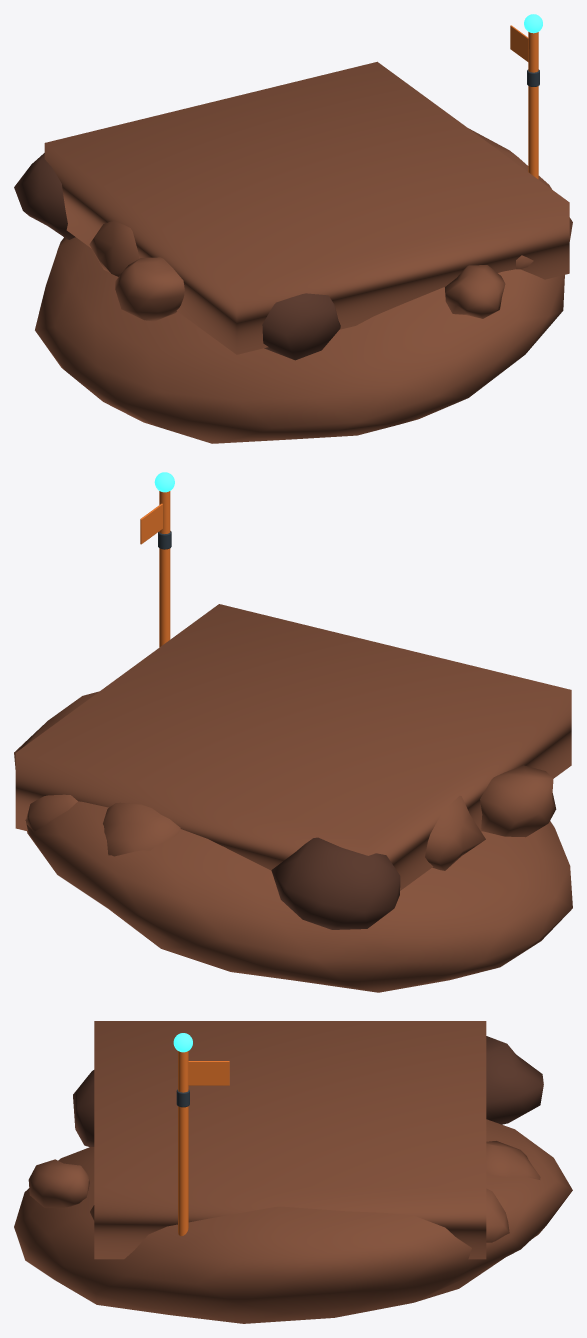
Rendered from mine.glb.
3 views of the same model, one above another, from view 1: azimuth 30°, elevation 25°; view 2: azimuth 150°, elevation 25°; view 3: azimuth 270°, elevation 25° (orthographic). The views are drawn at different scales.
Parts seen in each view (by area): view 1: COL_mound, mound, boulder 6, boulder 5, boulder 3, boulder 7, boulder 4, stake; view 2: COL_mound, mound, boulder 3, boulder 5, boulder 2, boulder 4, stake, boulder 1; view 3: COL_mound, mound, boulder 3, boulder 7, stake, boulder 2, boulder 6, stake flag, boulder 1.
Part boxes in pixels (<box>): COL_mound: <box>44,61,569,354</box>; mound: <box>35,128,572,443</box>; boulder 6: <box>262,293,340,360</box>; boulder 5: <box>115,257,184,321</box>; boulder 3: <box>14,153,75,239</box>; boulder 7: <box>445,265,505,318</box>; boulder 4: <box>89,220,139,276</box>; stake: <box>528,32,538,179</box>; COL_mound: <box>15,604,571,890</box>; mound: <box>14,691,572,992</box>; boulder 3: <box>271,837,400,929</box>; boulder 5: <box>480,765,556,837</box>; boulder 2: <box>103,802,180,856</box>; boulder 4: <box>425,795,485,870</box>; stake: <box>159,491,170,647</box>; boulder 1: <box>26,794,77,831</box>; COL_mound: <box>94,1021,486,1259</box>; mound: <box>14,1119,572,1323</box>; boulder 3: <box>486,1036,543,1124</box>; boulder 7: <box>28,1159,89,1207</box>; stake: <box>178,1051,188,1235</box>; boulder 2: <box>486,1141,540,1179</box>; boulder 6: <box>73,1070,94,1146</box>; stake flag: <box>188,1061,229,1085</box>; boulder 1: <box>486,1188,509,1242</box>.
Bounding box in the file's own units: 6.13 × 4.38 × 6.27.
